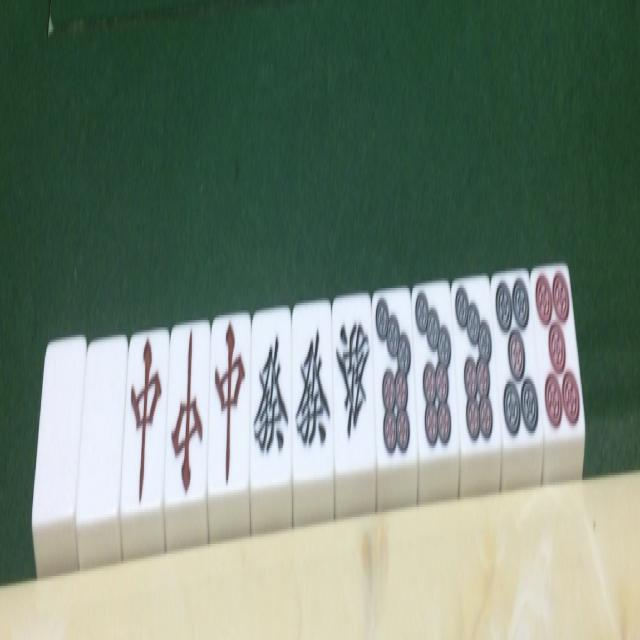circles_5: (532, 259, 586, 438), (490, 271, 542, 450)
circles_7: (411, 276, 459, 460), (452, 274, 501, 451), (372, 286, 418, 468)
green: (251, 298, 292, 487), (292, 298, 334, 482), (333, 288, 375, 470)
red: (117, 327, 170, 517), (167, 315, 209, 510), (208, 310, 252, 495)
white: (30, 332, 87, 530), (77, 335, 129, 522)
